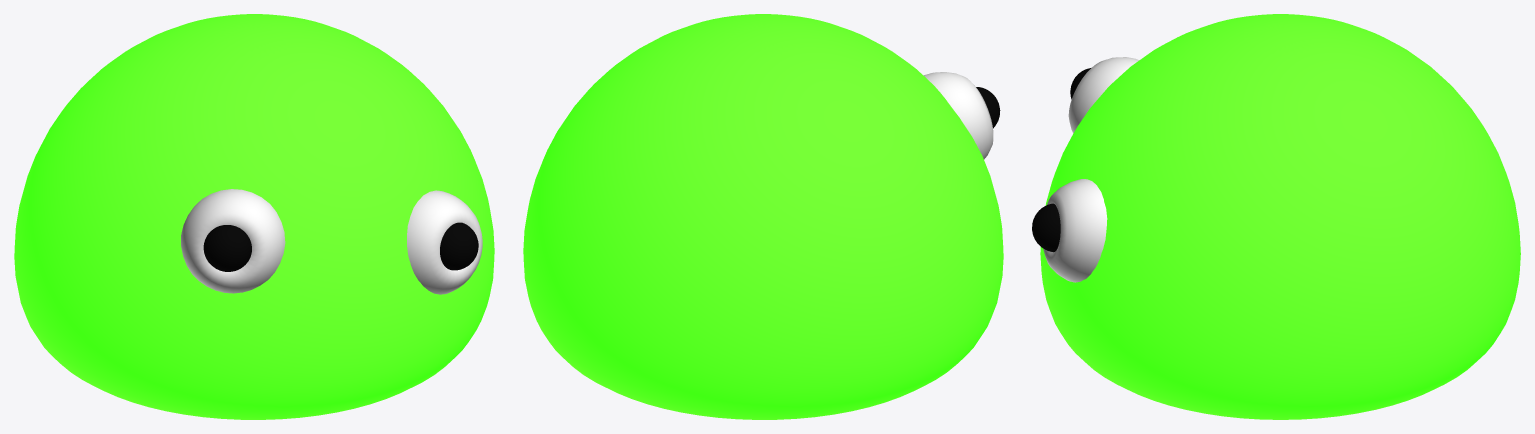
Rendered from Slime.fbx.
The picture shows the model from 3 angles, left to right: view 1: azimuth 30°, elevation 25°; view 2: azimuth 150°, elevation 25°; view 3: azimuth 270°, elevation 25°; orthographic projection.
Parts seen in each view (by area): view 1: Sphere, Sphere.001, Sphere.008, Sphere.003, Sphere.009; view 2: Sphere, Sphere.001; view 3: Sphere, Sphere.008, Sphere.001, Sphere.009.
Boxes of the visible parts, box(x1,y1,x2,y2) form: Sphere: box(14, 14, 494, 419); Sphere.001: box(181, 189, 285, 293); Sphere.008: box(407, 190, 482, 294); Sphere.003: box(203, 225, 251, 271); Sphere.009: box(440, 222, 478, 270); Sphere: box(523, 14, 1003, 419); Sphere.001: box(923, 72, 993, 159); Sphere: box(1040, 14, 1520, 419); Sphere.008: box(1043, 179, 1107, 282); Sphere.001: box(1068, 57, 1139, 133); Sphere.009: box(1032, 203, 1060, 252).
Bounding box in the file's own units: 197 × 141 × 201.
